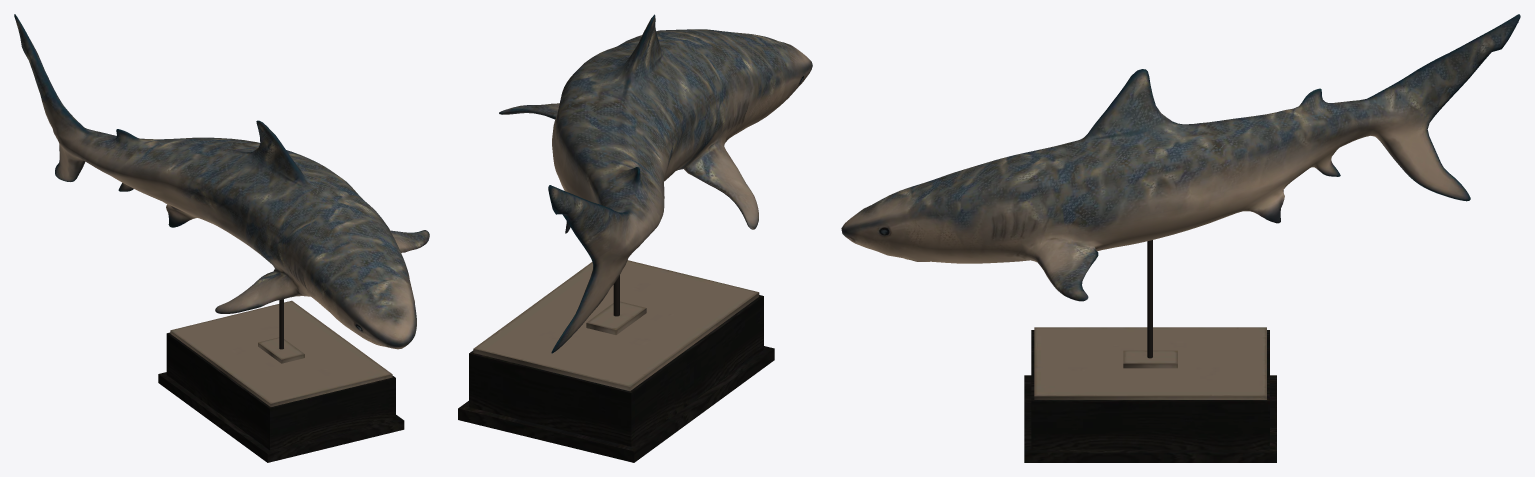
The model's file is bronze_shark_statue.glb.
3 renders of one model, left to right at view 1: azimuth 30°, elevation 25°; view 2: azimuth 150°, elevation 25°; view 3: azimuth 270°, elevation 25°, orthographic. The views are drawn at different scales.
Parts seen in each view (by area): view 1: bronze_shark_statue; view 2: bronze_shark_statue; view 3: bronze_shark_statue.
Boxes of the visible parts, <box> form: bronze_shark_statue: <box>14,14,429,462</box>; bronze_shark_statue: <box>458,14,812,462</box>; bronze_shark_statue: <box>841,14,1520,462</box>.
Bounding box in the file's own units: 0.352 × 0.4316 × 0.7598.
1 material, 1 textured.
